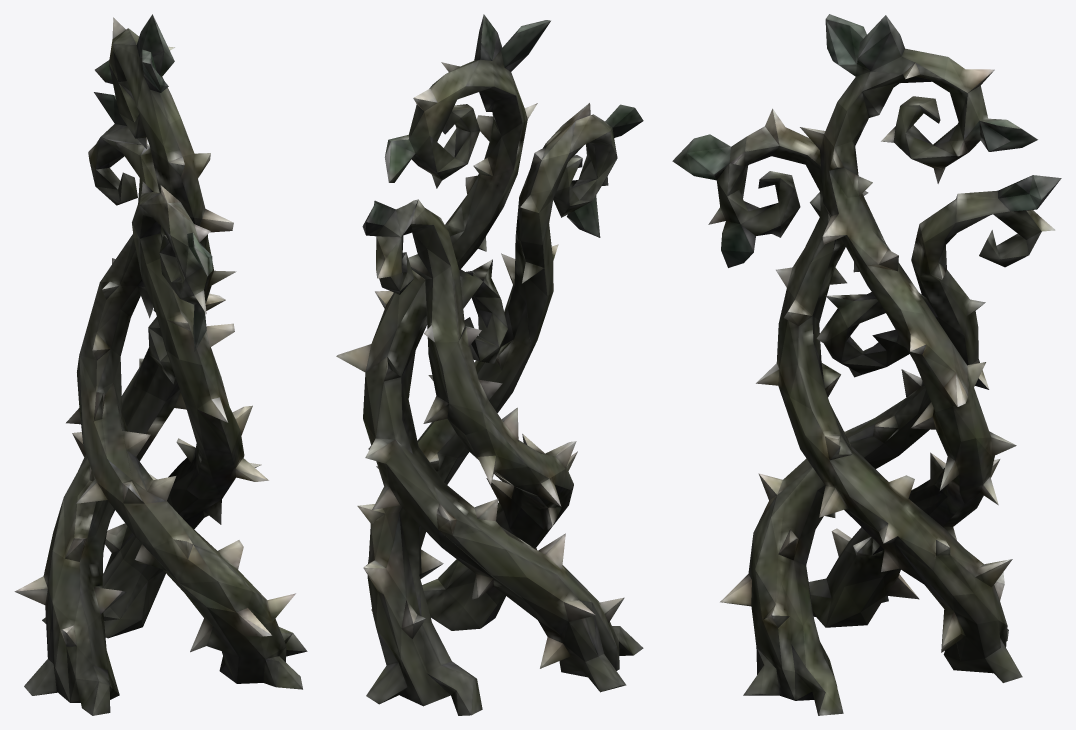
Rendered from thorn_vines.glb.
3 views of the same model, side by side, from view 1: azimuth 30°, elevation 25°; view 2: azimuth 150°, elevation 25°; view 3: azimuth 270°, elevation 25° (orthographic).
Parts seen in each view (by area): view 1: tripo_node_9b662495-e729-4f4c-9261-86a7b9c1e2fe.001; view 2: tripo_node_9b662495-e729-4f4c-9261-86a7b9c1e2fe.001; view 3: tripo_node_9b662495-e729-4f4c-9261-86a7b9c1e2fe.001.
Boxes of the visible parts, bbox=[...] form: tripo_node_9b662495-e729-4f4c-9261-86a7b9c1e2fe.001: bbox=[14, 14, 307, 715]; tripo_node_9b662495-e729-4f4c-9261-86a7b9c1e2fe.001: bbox=[336, 14, 643, 715]; tripo_node_9b662495-e729-4f4c-9261-86a7b9c1e2fe.001: bbox=[672, 14, 1061, 715].
Bounding box in the file's own units: 0.4038 × 0.9796 × 0.537.
1 material, 1 textured.
